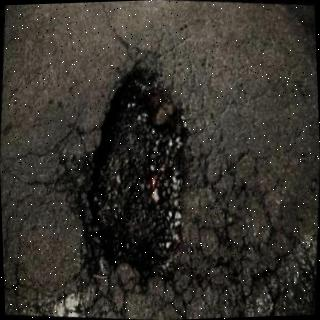pothole: (44, 52, 191, 294)
